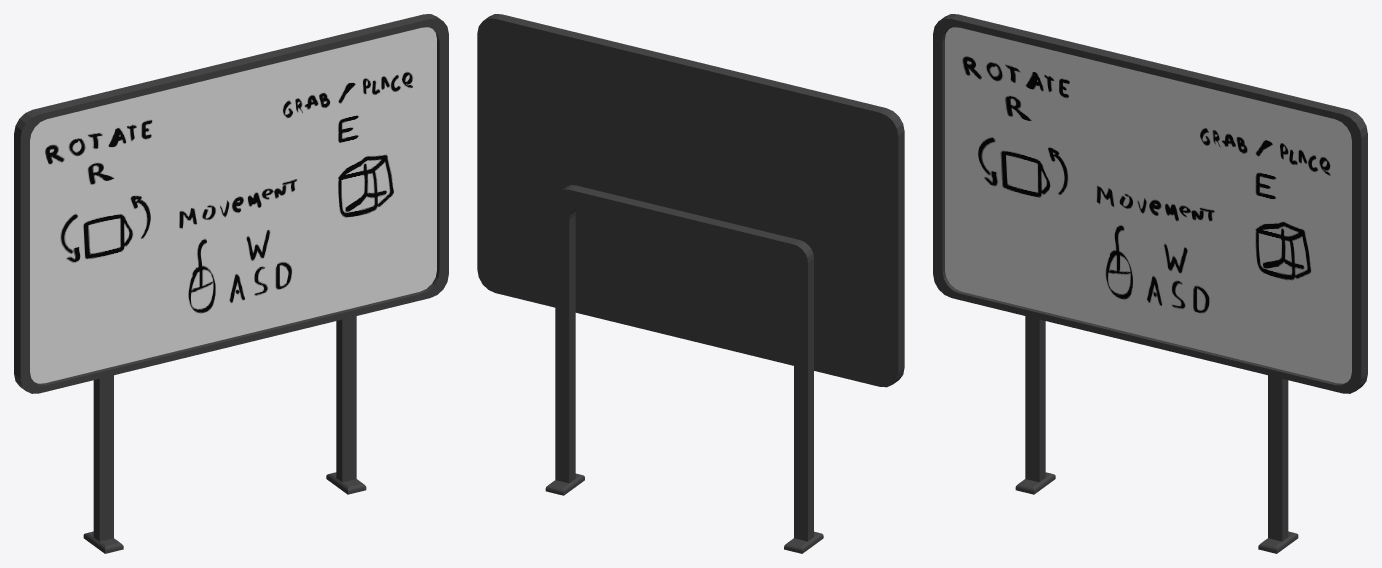
The model's file is QuadroBranco.fbx.
The picture shows the model from 3 angles, left to right: view 1: azimuth 30°, elevation 25°; view 2: azimuth 150°, elevation 25°; view 3: azimuth 330°, elevation 25°; orthographic projection.
Parts seen in each view (by area): view 1: Cube; view 2: Cube; view 3: Cube.
Boxes of the visible parts, x1,y1,x2,y2 form: Cube: [14, 14, 448, 553]; Cube: [477, 14, 904, 553]; Cube: [933, 14, 1367, 553].
Bounding box in the file's own units: 281 × 285 × 24.47.
Materials: 2 (1 with a texture image).
